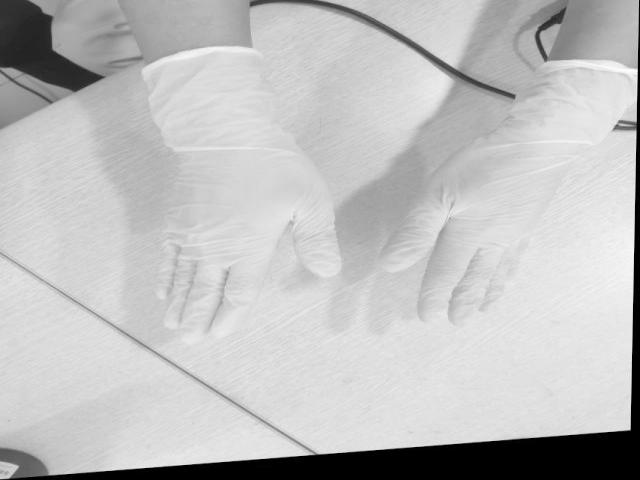gloved: (160, 155, 342, 337), (390, 136, 550, 326)
